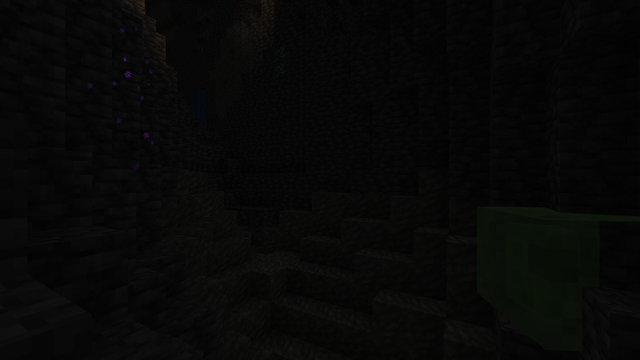slimes: (490, 202, 629, 349)
